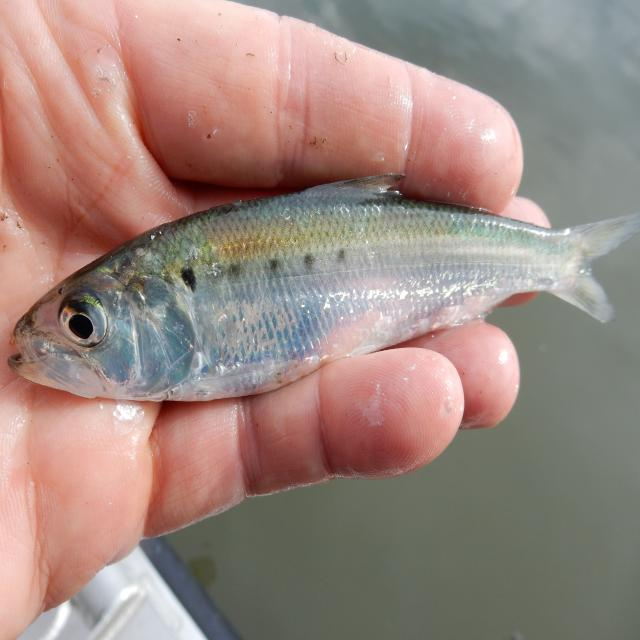Shad - American: (8, 174, 640, 401)
